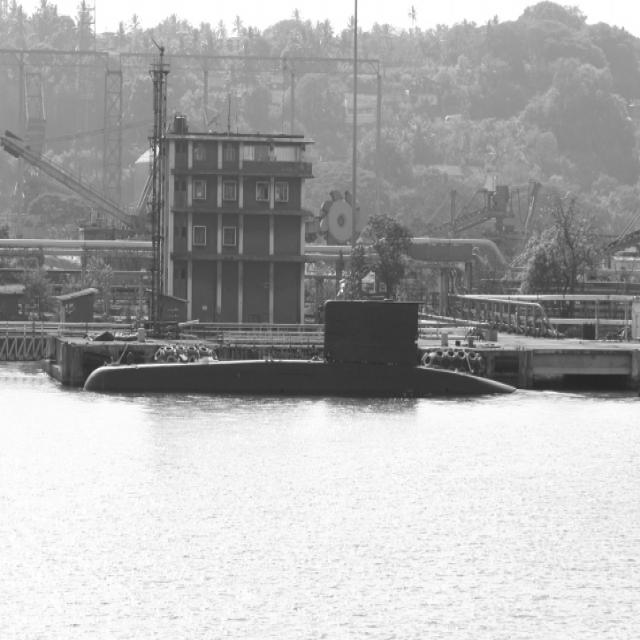submarine: (82, 296, 532, 399)
